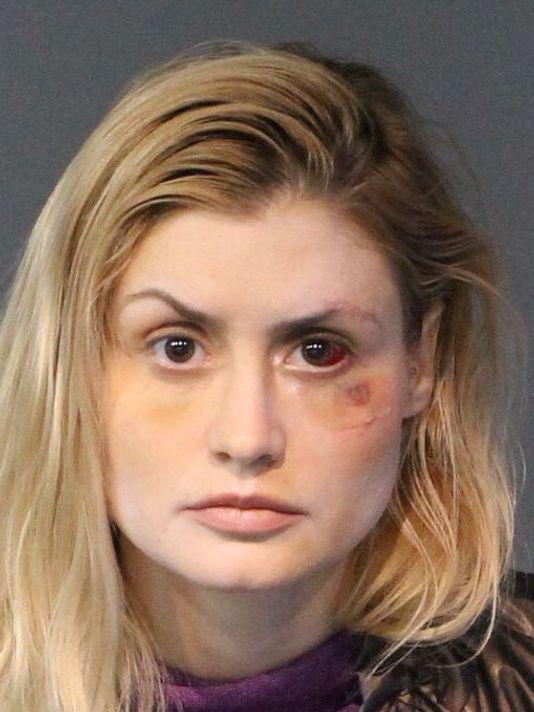Drunk: (117, 217, 404, 586)
